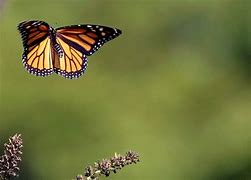insect: (16, 18, 121, 77)
